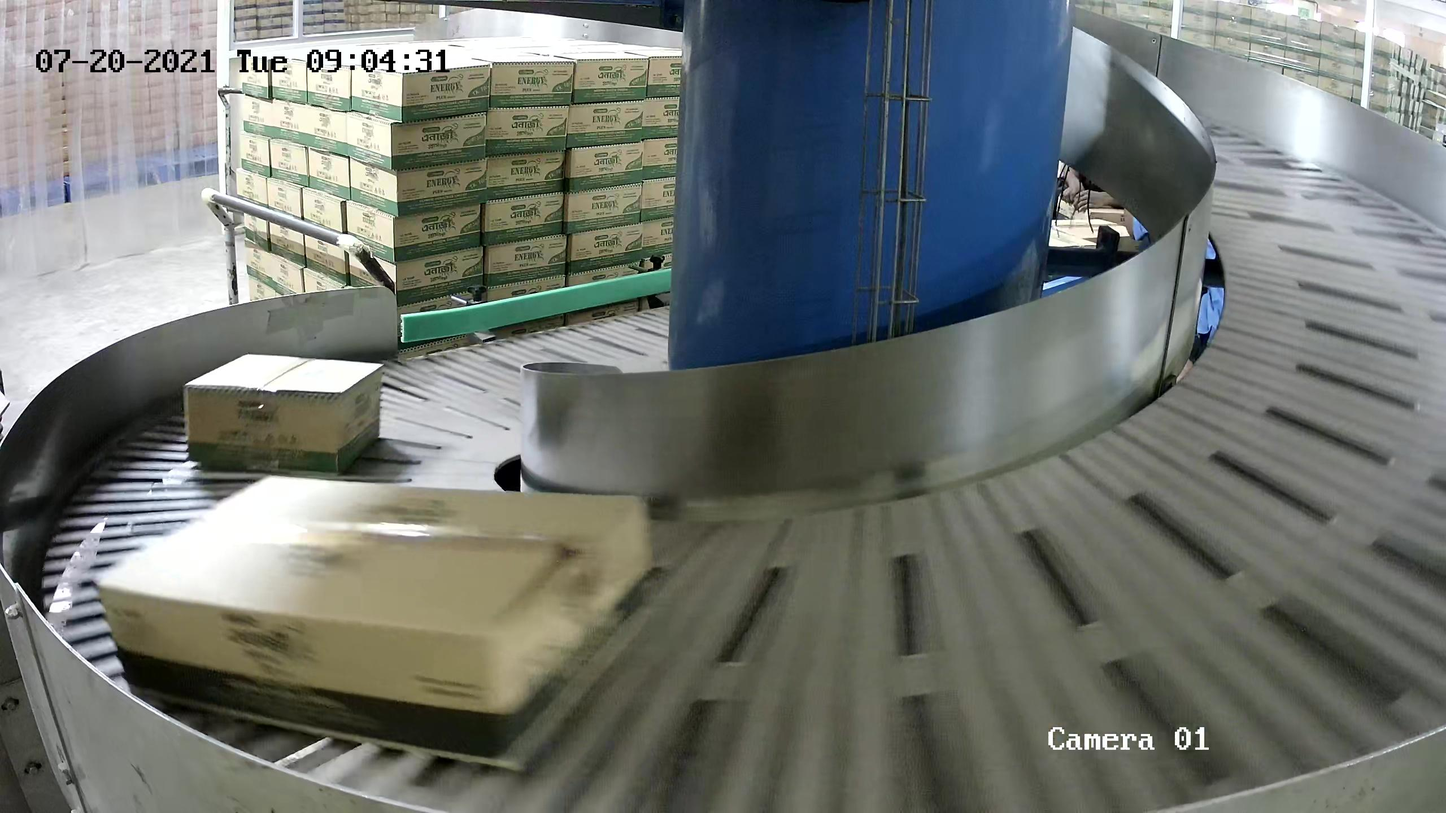Box: (95, 472, 664, 774), (185, 352, 384, 480)
